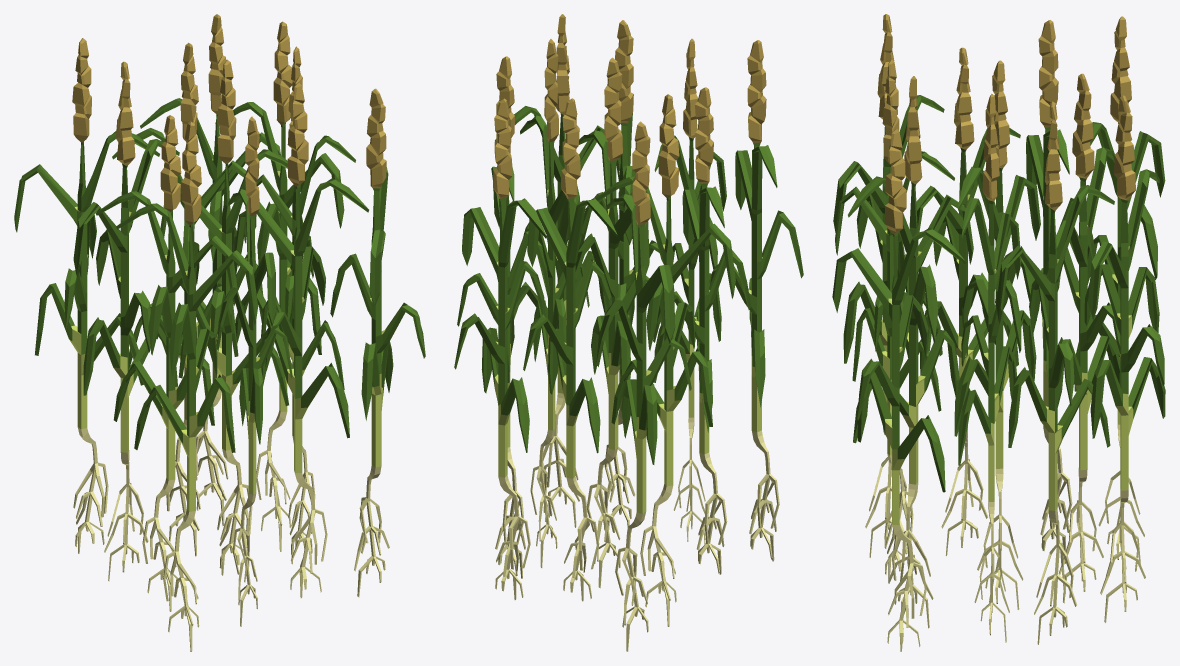
The model's file is mod_WinterWheat_Final.fbx.
3 views of the same model, side by side, from view 1: azimuth 30°, elevation 25°; view 2: azimuth 150°, elevation 25°; view 3: azimuth 270°, elevation 25° (orthographic). The views are drawn at different scales.
Parts seen in each view (by area): view 1: Wheat.031, Wheat.029, Wheat.033, Wheat.034, Wheat.028, Wheat.030, Wheat.032, Wheat, Wheat.026, Wheat.025, Wheat.027, Wheat.024; view 2: Wheat.034, Wheat.025, Wheat.024, Wheat.033, Wheat.031, Wheat, Wheat.030, Wheat.027, Wheat.032, Wheat.028, Wheat.029, Wheat.026; view 3: Wheat.028, Wheat.025, Wheat.026, Wheat.029, Wheat.027, Wheat.024, Wheat, Wheat.030, Wheat.034, Wheat.032, Wheat.031, Wheat.033.
Boxes of the visible parts, <box> form: Wheat.031: <box>116,121,258,651</box>; Wheat.029: <box>234,82,368,598</box>; Wheat.033: <box>73,61,179,581</box>; Wheat.034: <box>14,38,159,553</box>; Wheat.028: <box>330,88,425,597</box>; Wheat.030: <box>95,115,237,611</box>; Wheat.032: <box>216,116,292,626</box>; Wheat: <box>160,59,288,575</box>; Wheat.026: <box>215,21,344,551</box>; Wheat.025: <box>140,14,280,525</box>; Wheat.027: <box>244,46,355,564</box>; Wheat.024: <box>112,42,256,556</box>; Wheat.034: <box>596,121,691,651</box>; Wheat.025: <box>454,98,546,599</box>; Wheat.024: <box>523,98,617,601</box>; Wheat.033: <box>595,94,735,626</box>; Wheat.031: <box>710,40,803,561</box>; Wheat: <box>575,57,662,588</box>; Wheat.030: <box>653,87,751,574</box>; Wheat.027: <box>520,39,589,567</box>; Wheat.032: <box>653,38,726,544</box>; Wheat.028: <box>495,14,620,527</box>; Wheat.029: <box>579,20,659,542</box>; Wheat.026: <box>457,56,550,578</box>; Wheat.028: <box>832,128,965,651</box>; Wheat.025: <box>1084,95,1165,622</box>; Wheat.026: <box>996,101,1114,644</box>; Wheat.029: <box>848,76,973,628</box>; Wheat.027: <box>958,93,1021,642</box>; Wheat.024: <box>1044,73,1120,603</box>; Wheat: <box>954,60,1040,609</box>; Wheat.030: <box>916,47,1020,555</box>; Wheat.034: <box>1074,16,1165,564</box>; Wheat.032: <box>835,59,954,583</box>; Wheat.031: <box>833,14,944,557</box>; Wheat.033: <box>995,20,1095,563</box>.
Size of the model in its own units: 397 by 724 by 399.
